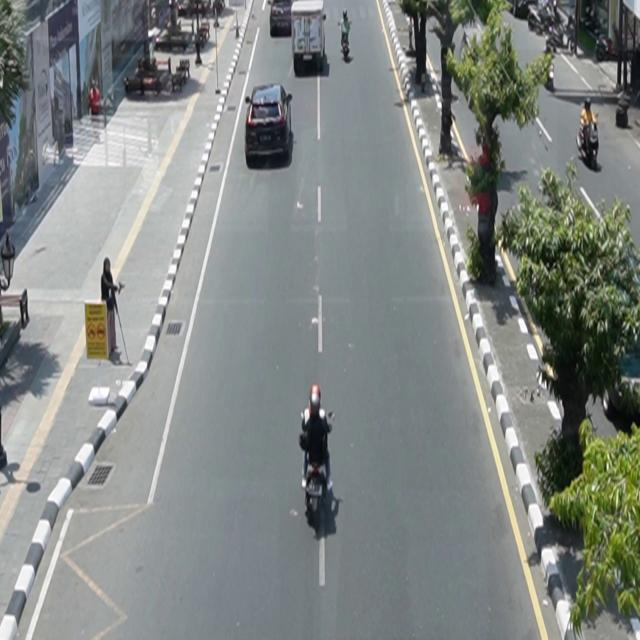bus: (291, 1, 326, 74)
car: (245, 84, 294, 164)
